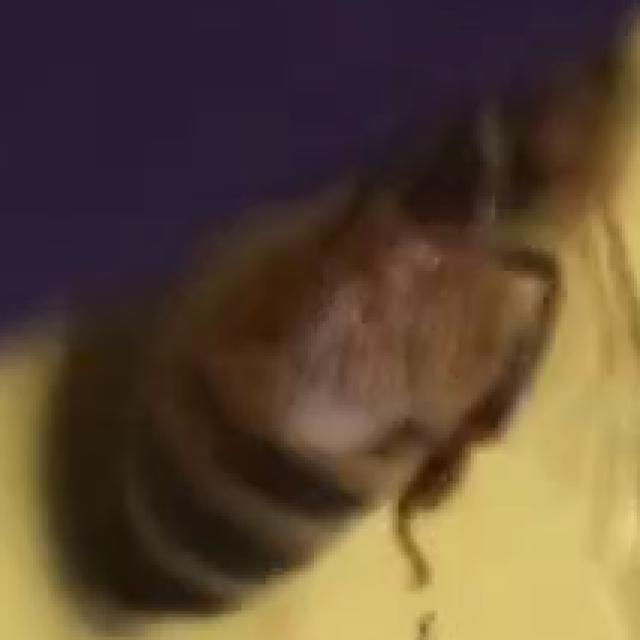honeybee: (133, 34, 594, 608)
